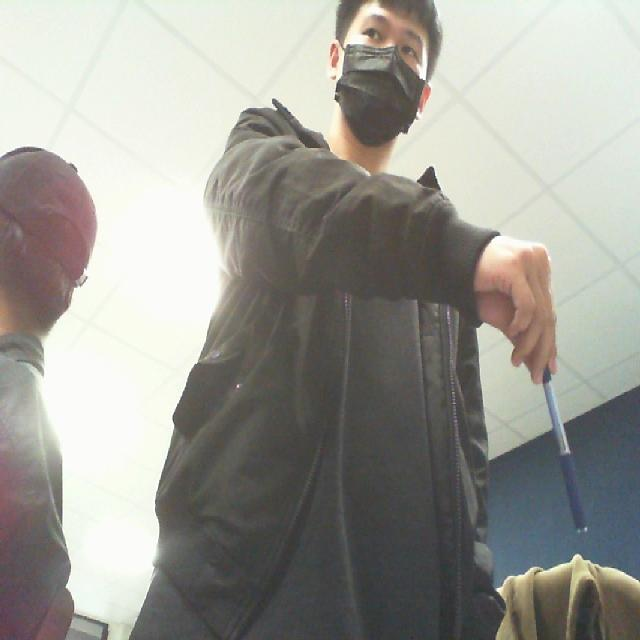Pen: (527, 342, 607, 559)
